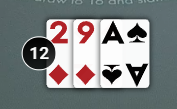2: (45, 19, 73, 47)
9: (73, 19, 101, 47)
a: (100, 19, 127, 47)
